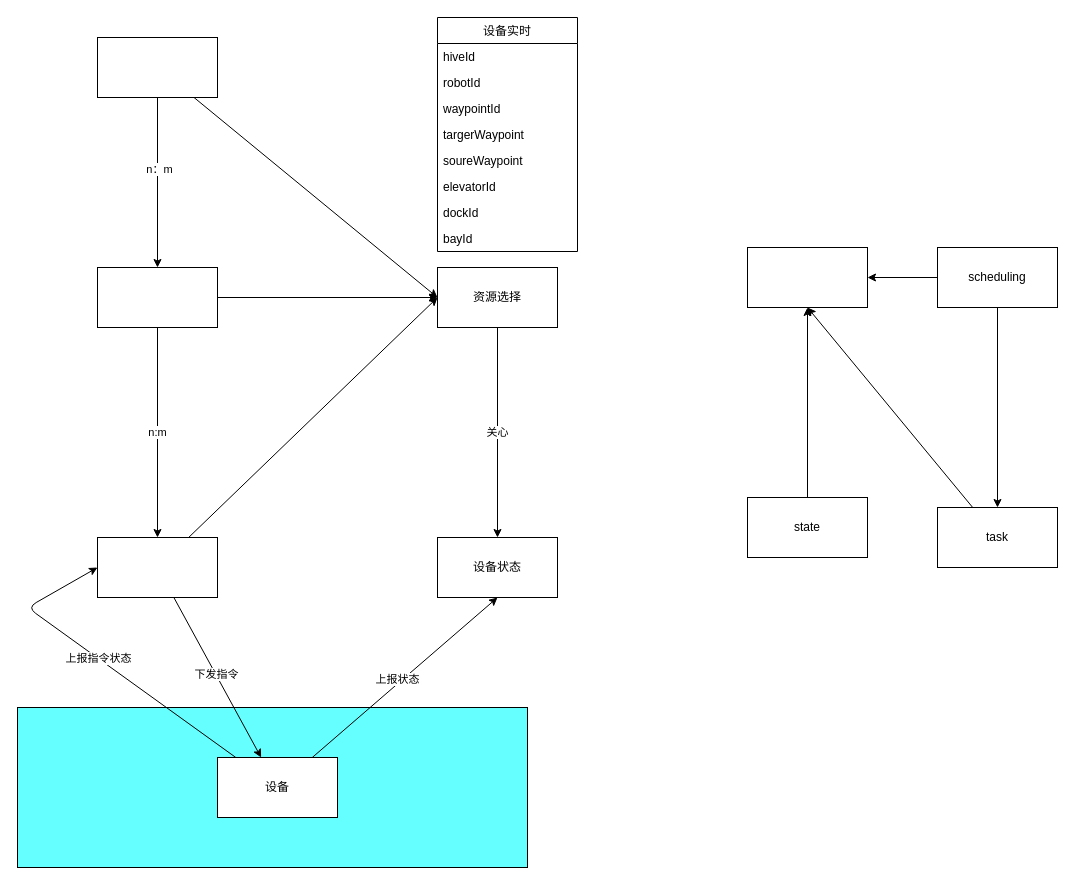
Some shapes in this 1075 by 885 pixel diagram are drawn without their labels. The centre of each missing label's shape, as x and y in pixels:
"device" belongs at [807,277].
"调度指令" belongs at [157,567].
"调度订单" belongs at [157,67].
"调度请求" belongs at [157,297].
